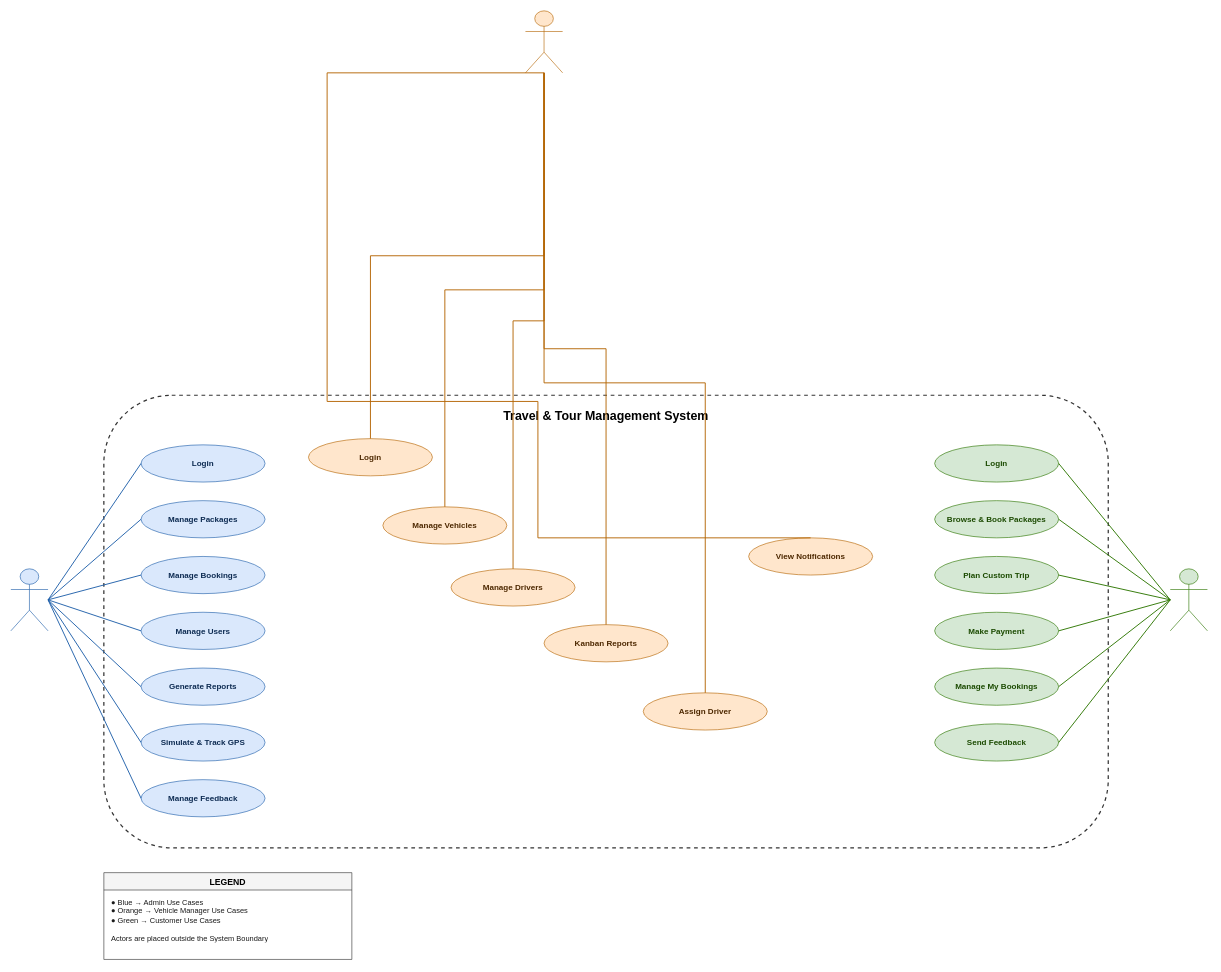
The diagram is 1221 pixels wide and 972 high, and some of its shapes have lost their labels. The shapes that lost their labels are listed below. From the top down, each one's centre as x and y in pixels, then its label:
(x=544, y=41): Vehicle Manager
(x=29, y=599): Admin
(x=1188, y=599): Customer
